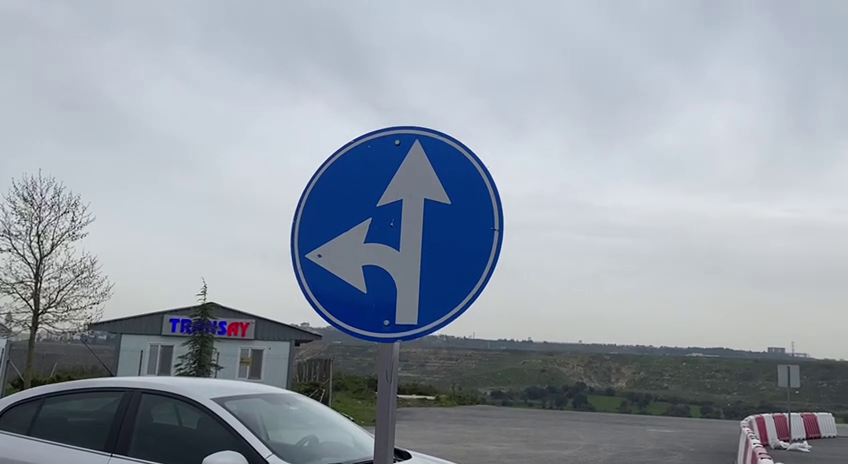forwardAndLeft: (286, 121, 506, 345)
